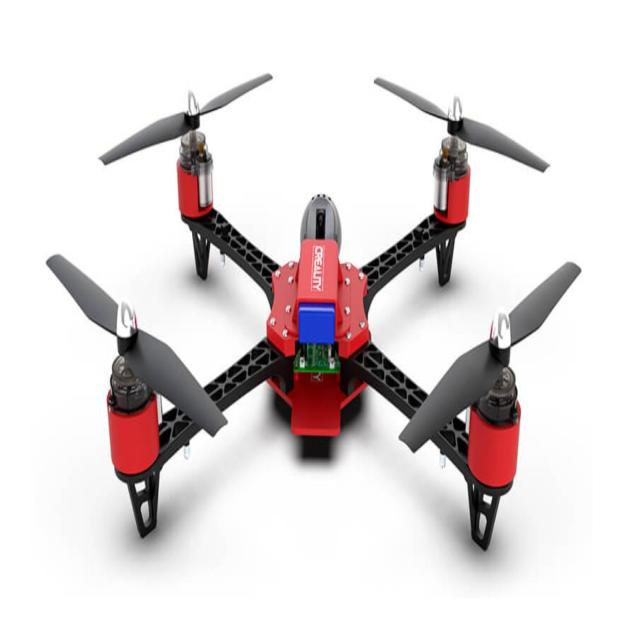drone: (39, 73, 620, 559)
